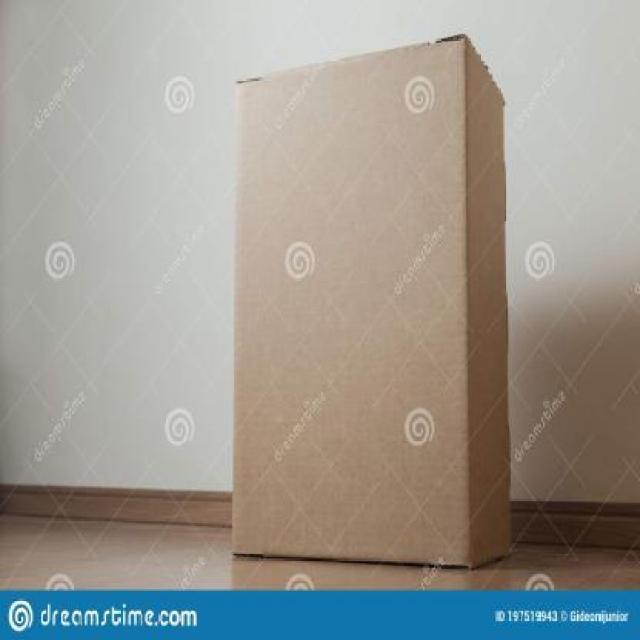box: (231, 32, 513, 570)
